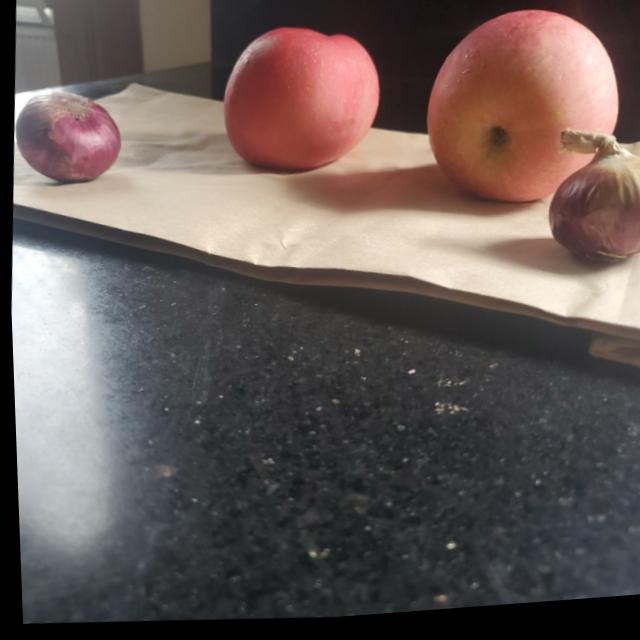apple: (413, 8, 622, 224), (218, 22, 391, 185)
onion: (544, 134, 640, 283), (12, 86, 128, 194)
